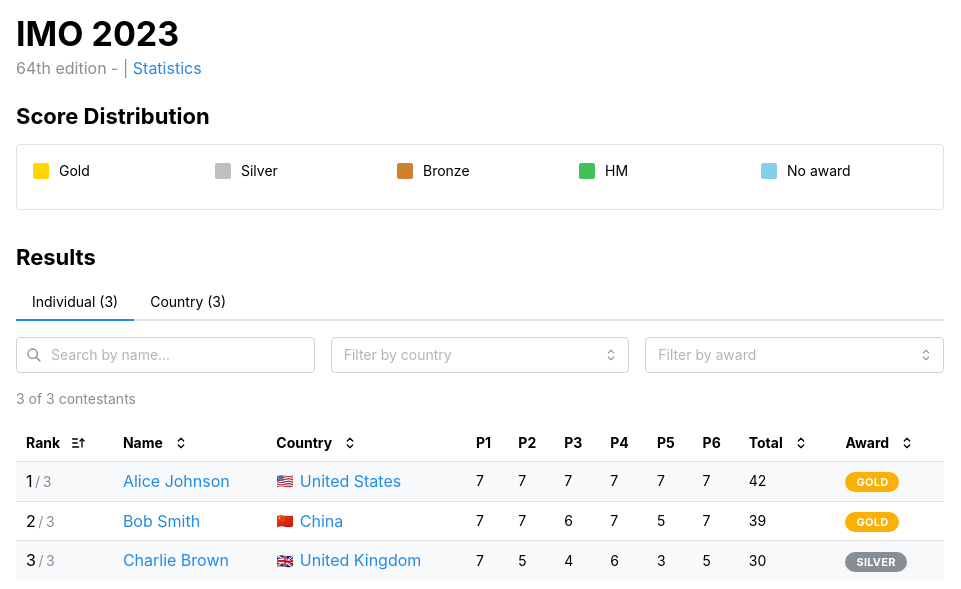
Competition › country results tab › switches to country tab when clicked
Click the tab "Country (3)".
click(188, 303)  # box [134, 285, 242, 321]
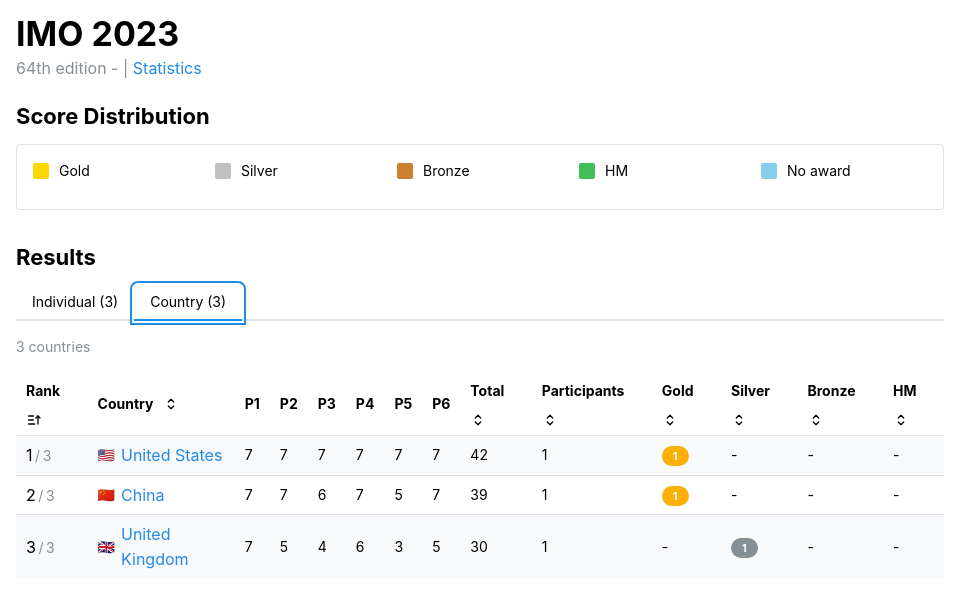
Check: the text "3 countries" is shown, box [16, 338, 90, 355]
